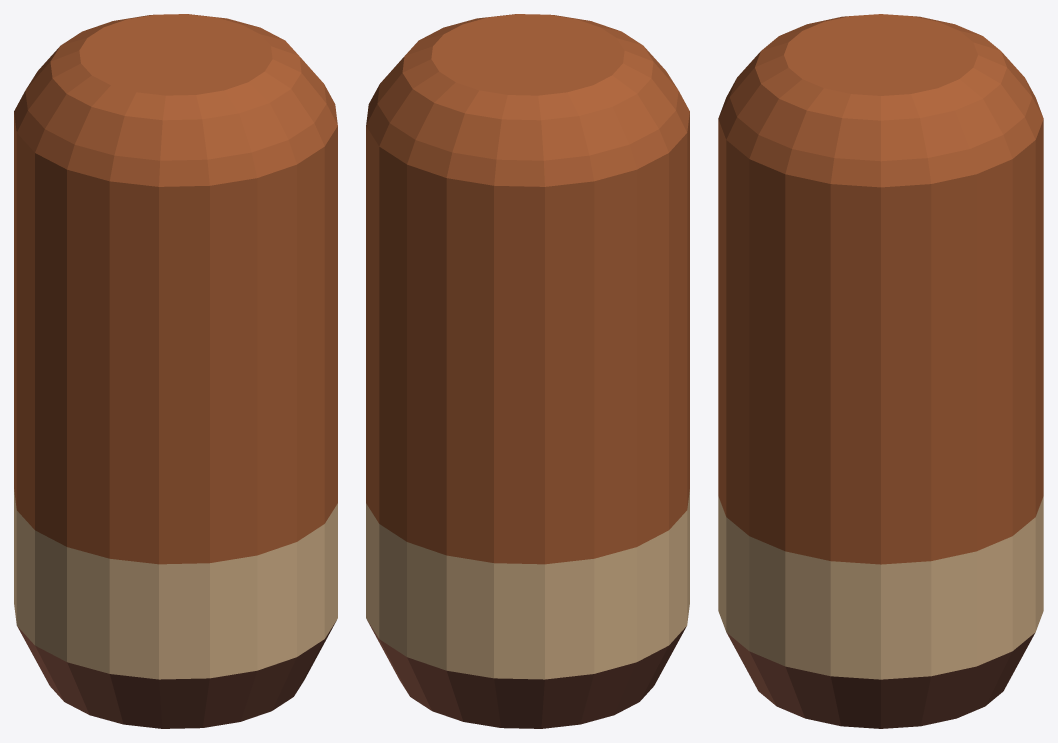
Rendered from goomba.fbx.
The picture shows the model from 3 angles, left to right: view 1: azimuth 30°, elevation 25°; view 2: azimuth 150°, elevation 25°; view 3: azimuth 270°, elevation 25°; orthographic projection.
Parts seen in each view (by area): view 1: Cylinder; view 2: Cylinder; view 3: Cylinder.
Boxes of the visible parts, x1,y1,x2,y2 form: Cylinder: (14,14,337,728); Cylinder: (366,14,689,728); Cylinder: (718,14,1043,728).
Size of the model in its own units: 69.81 by 147 by 69.81.
